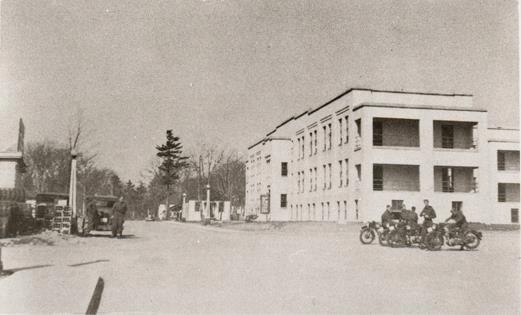non-vehicle: (425, 222, 483, 251), (386, 222, 429, 249), (359, 220, 390, 246)
